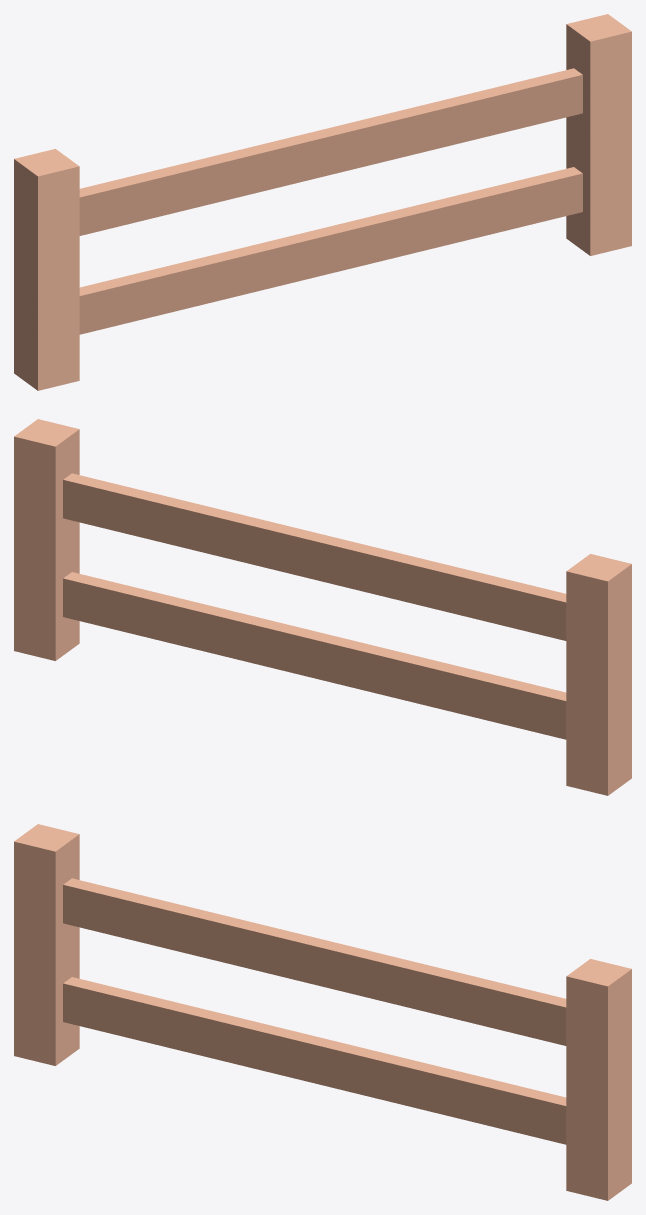
Rendered from fence_simple.glb.
The picture shows the model from 3 angles, top to bottom: view 1: azimuth 30°, elevation 25°; view 2: azimuth 150°, elevation 25°; view 3: azimuth 330°, elevation 25°; orthographic projection.
Parts seen in each view (by area): view 1: fence_simple; view 2: fence_simple; view 3: fence_simple.
Boxes of the visible parts, left/top/right/bottom form: fence_simple: left=14, top=14, right=631, bottom=390; fence_simple: left=14, top=419, right=631, bottom=795; fence_simple: left=14, top=824, right=631, bottom=1200.
Size of the model in its own units: 1 by 0.345 by 0.07.
